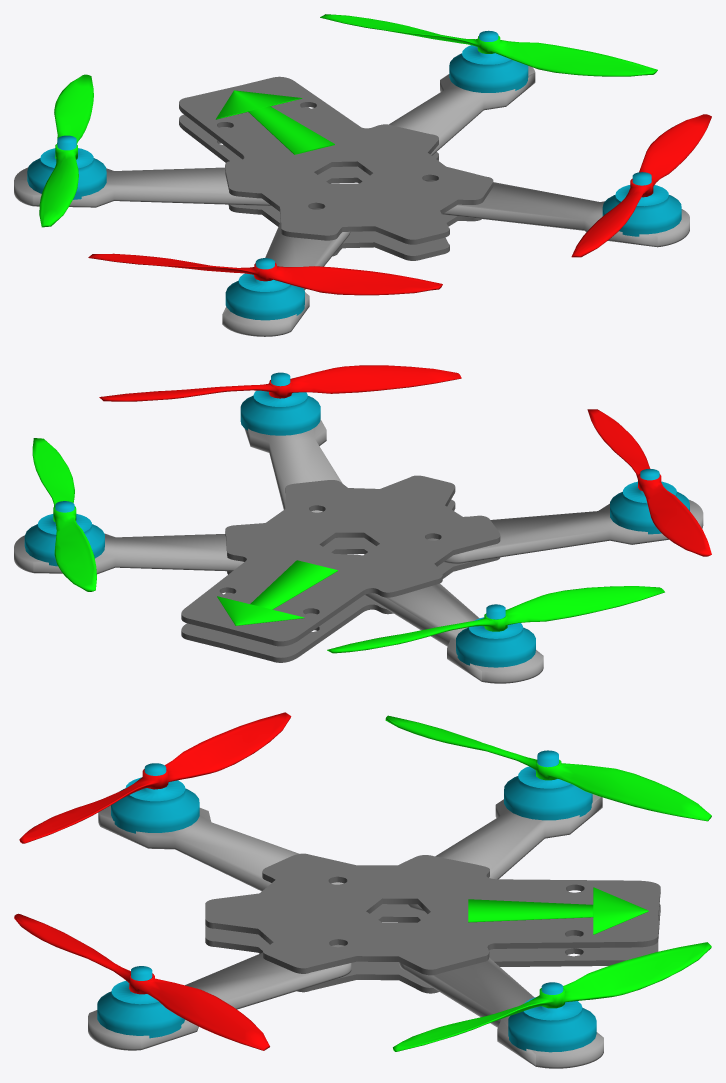
The model's file is quad_x.gltf.
3 renders of one model, top to bottom at view 1: azimuth 30°, elevation 25°; view 2: azimuth 150°, elevation 25°; view 3: azimuth 270°, elevation 25°, orthographic. The views are drawn at different scales.
Size of the model in its own units: 8.22 by 0.727 by 7.15.
